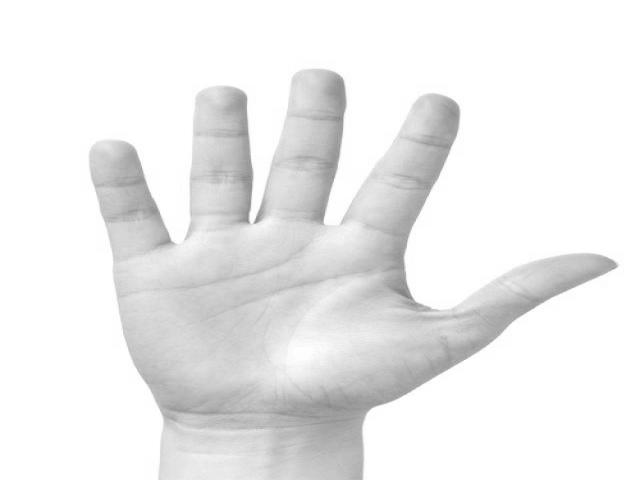not-gloved: (89, 66, 615, 434)
